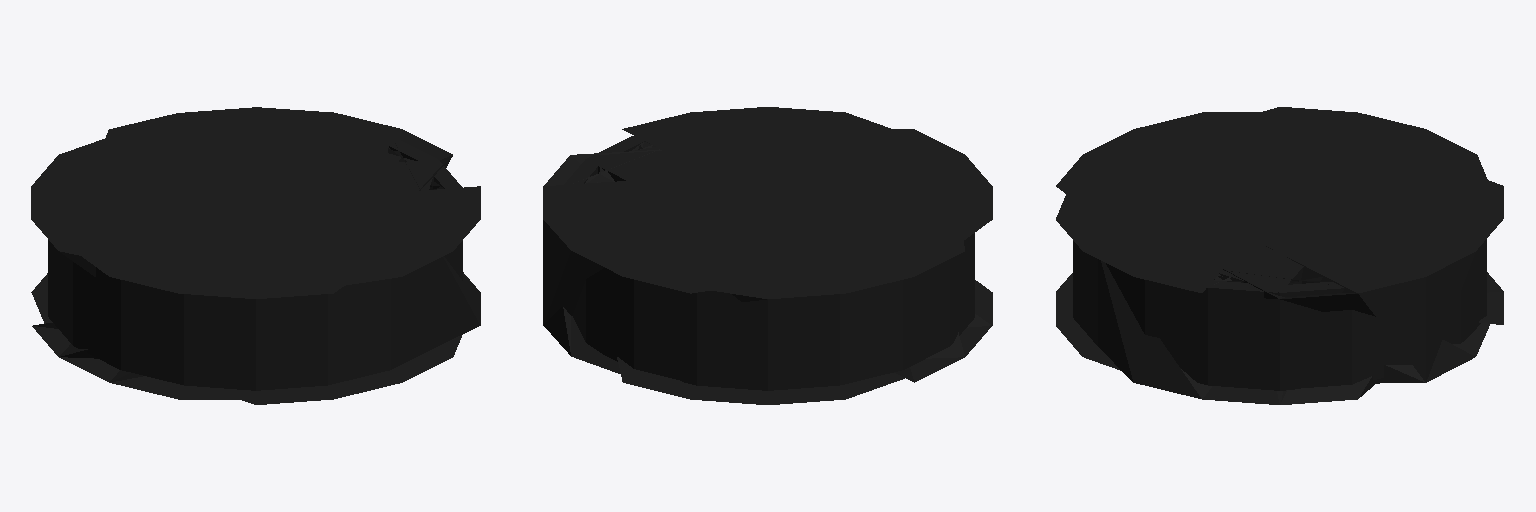
Rendered from Gear.obj.
The picture shows the model from 3 angles: view 1: azimuth 30°, elevation 25°; view 2: azimuth 150°, elevation 25°; view 3: azimuth 270°, elevation 25°; orthographic projection.
Parts seen in each view (by area): view 1: Cylinder001, Object001; view 2: Cylinder001, Object001; view 3: Cylinder001, Object001.
Boxes of the visible parts, x1=… form: Cylinder001: x1=31, y1=107, x2=480, y2=404; Object001: x1=48, y1=138, x2=462, y2=390; Cylinder001: x1=543, y1=107, x2=992, y2=404; Object001: x1=564, y1=136, x2=974, y2=390; Cylinder001: x1=1056, y1=107, x2=1503, y2=404; Object001: x1=1073, y1=239, x2=1486, y2=390.
Size of the model in its own units: 231460 by 59333 by 227824.